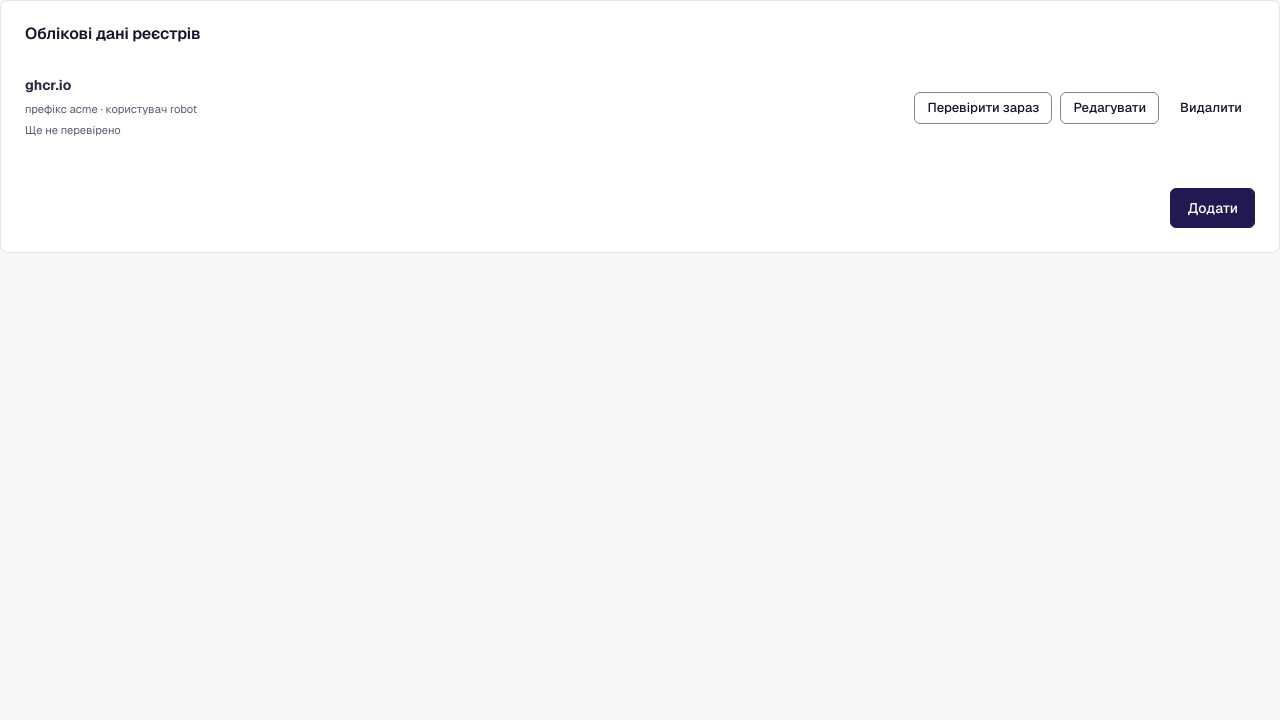
Test: Реєстри образів заходу › confirms before deleting and removes the row
expect the text "ghcr.io" is shown: met, box [25,76,71,94]
Click the button "Видалити". click: (1211, 108)
box: [1167,92,1255,124]
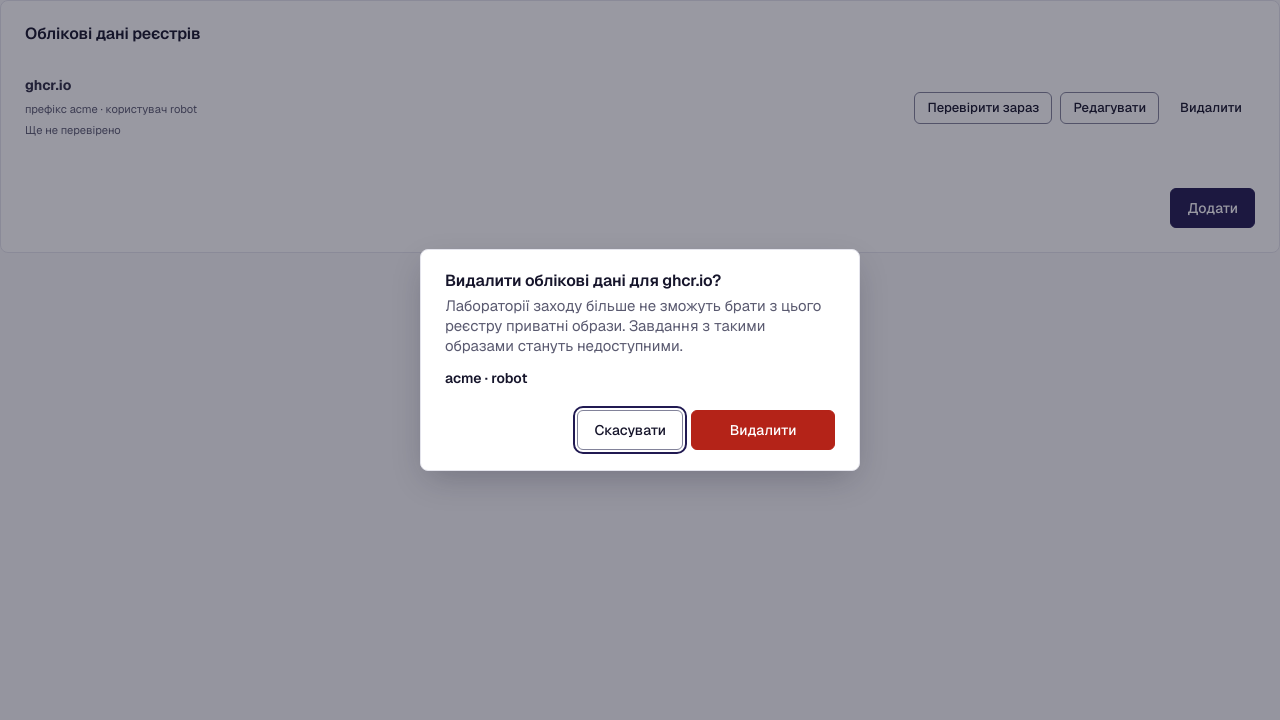
expect the heading "Видалити облікові дані для ghcr.io?" is shown: met, box [445,270,721,291]
Click the button "Видалити". click: (763, 430)
box: [691,410,835,450]
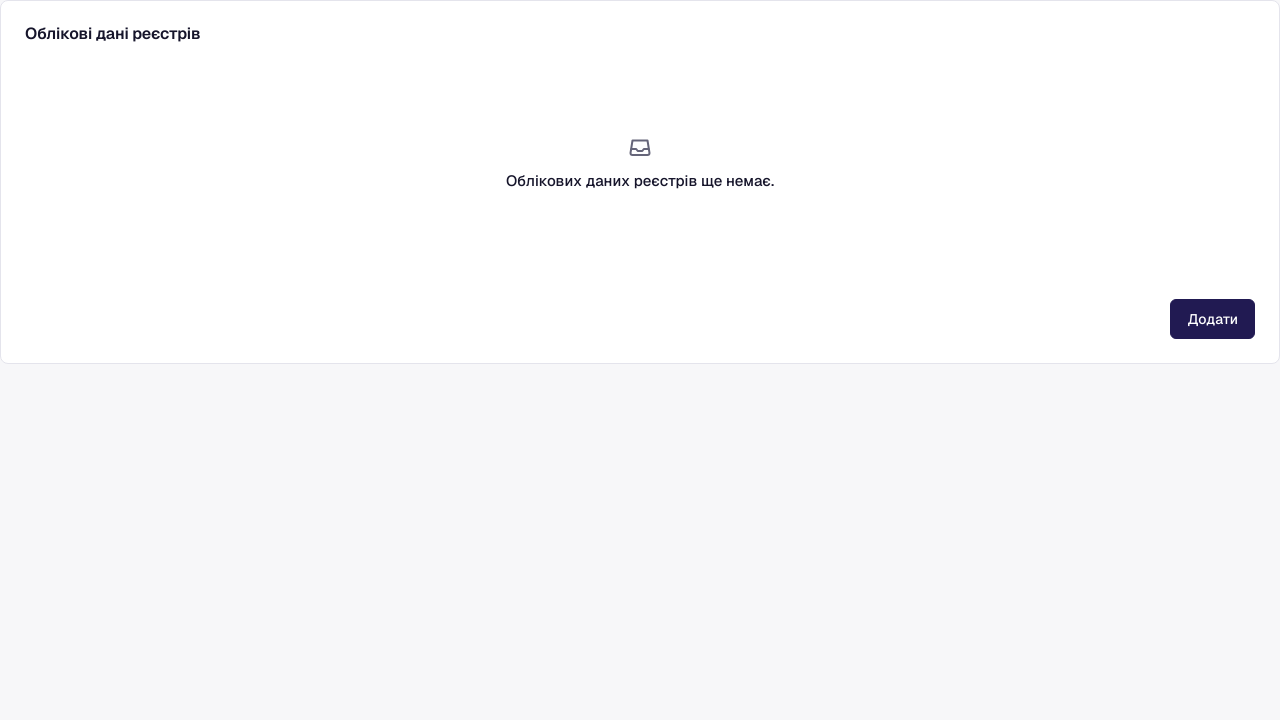
expect the text "Облікових даних реєстрів ще немає." is shown: met, box [506,171,774,192]
